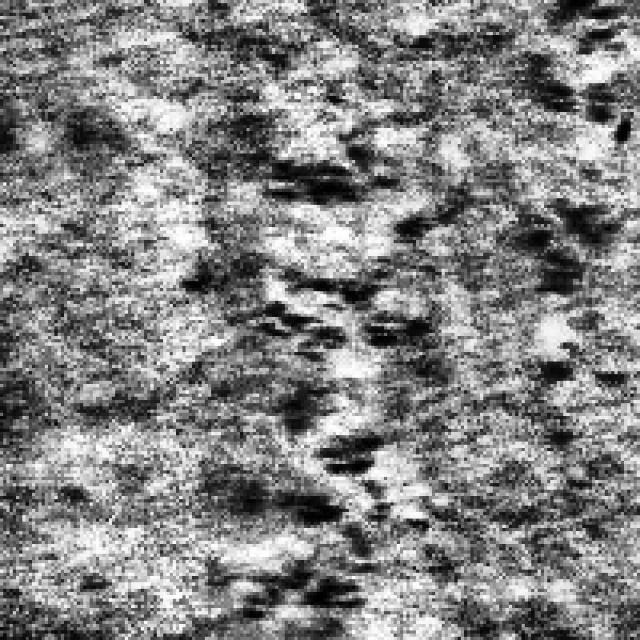Crazing: (217, 138, 428, 636), (522, 147, 612, 416), (505, 0, 633, 134)
